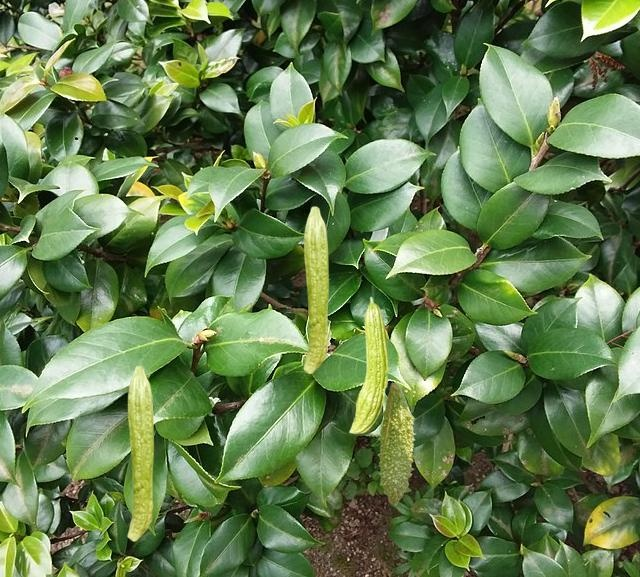ampalaya: (348, 296, 389, 434), (377, 382, 416, 506), (127, 365, 154, 542), (303, 206, 329, 374)
